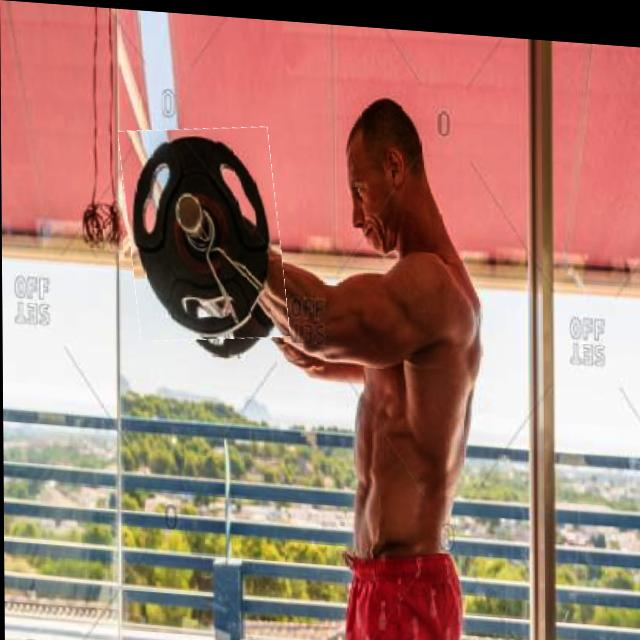barbell: (125, 119, 286, 344)
